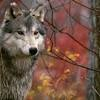Lobo: (2, 1, 48, 96)
